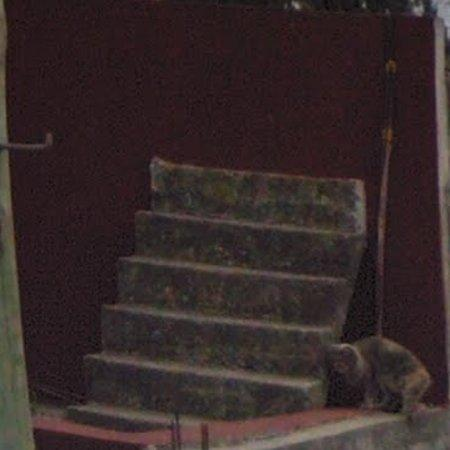stairs: (35, 159, 366, 450)
